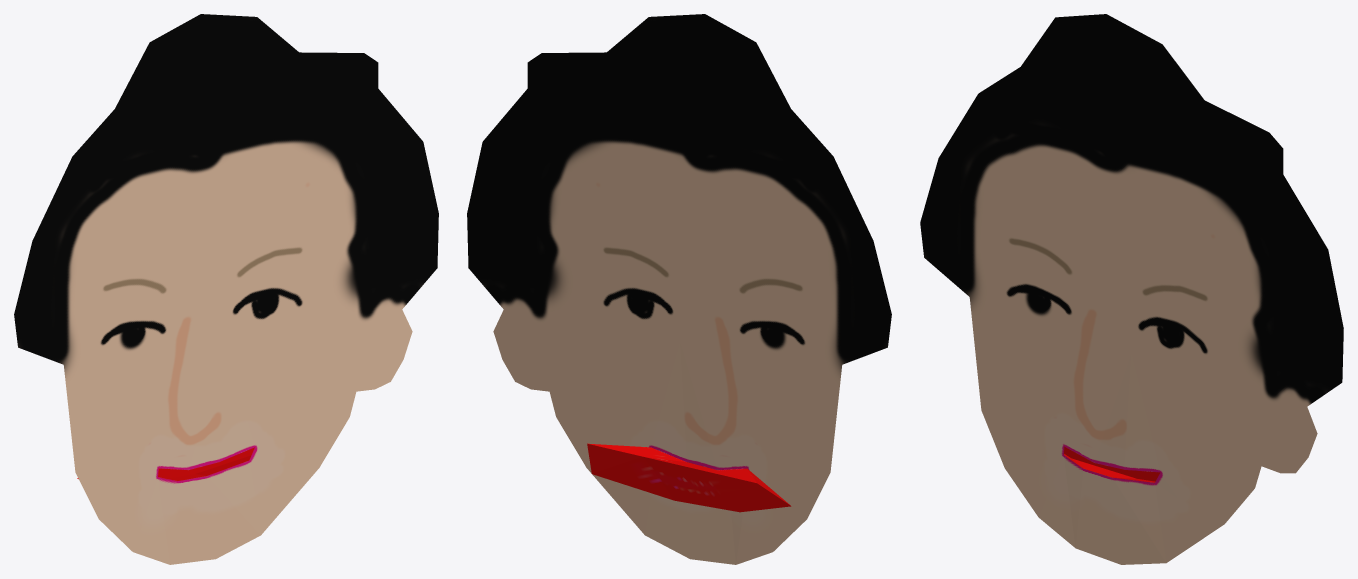
3 views of the same model, side by side, from view 1: azimuth 30°, elevation 25°; view 2: azimuth 150°, elevation 25°; view 3: azimuth 330°, elevation 25° (orthographic).
Visible parts, largest first — view 1: Plane; view 2: Plane; view 3: Plane.
Boxes of the visible parts, left/top/right/bottom form: Plane: left=14, top=14, right=438, bottom=564; Plane: left=467, top=14, right=891, bottom=564; Plane: left=920, top=14, right=1343, bottom=564.
Size of the model in its own units: 1.96 by 2.42 by 0.1512.
Materials: 1 (1 with a texture image).
